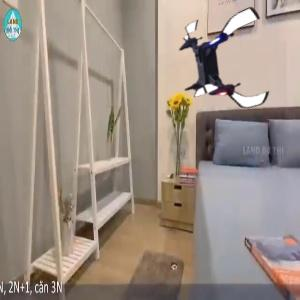drone: (173, 10, 283, 120)
